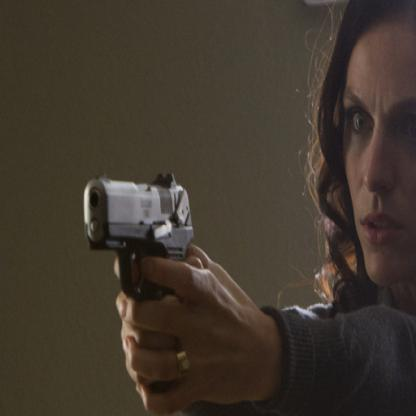gun: (81, 169, 192, 397)
